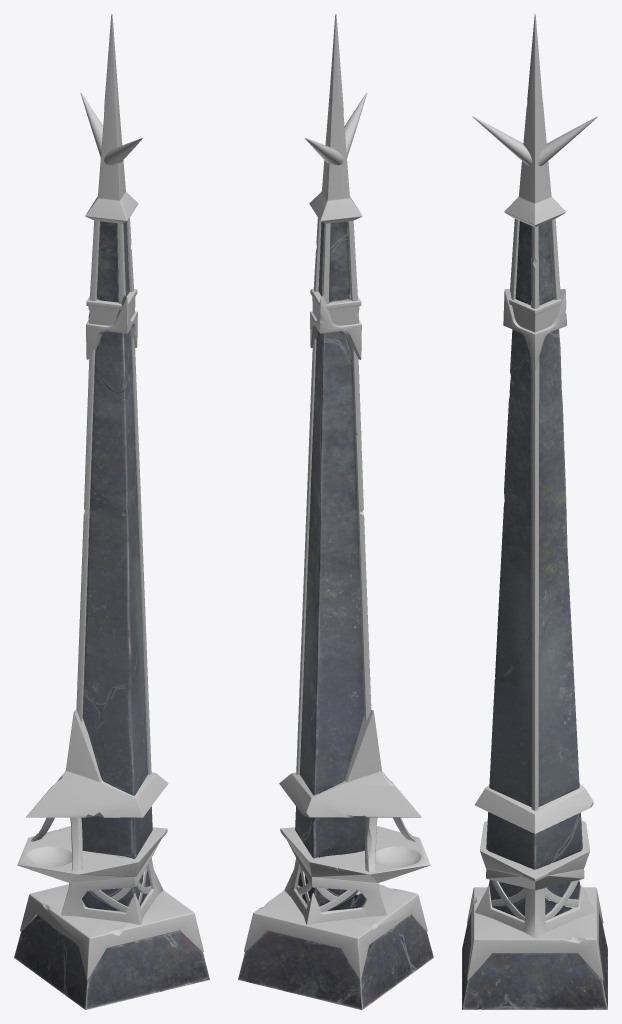
3 renders of one model, left to right at view 1: azimuth 30°, elevation 25°; view 2: azimuth 150°, elevation 25°; view 3: azimuth 270°, elevation 25°, orthographic.
Visible parts, largest first — view 1: SM_Orb_Stand_Idle_01_LOD0; view 2: SM_Orb_Stand_Idle_01_LOD0; view 3: SM_Orb_Stand_Idle_01_LOD0.
Part boxes in pixels (x1,y1,x2,y2): SM_Orb_Stand_Idle_01_LOD0: (14, 14, 209, 1009); SM_Orb_Stand_Idle_01_LOD0: (238, 14, 433, 1009); SM_Orb_Stand_Idle_01_LOD0: (462, 14, 607, 1009).
Bounding box in the file's own units: 1.5 × 8.71 × 1.19.
